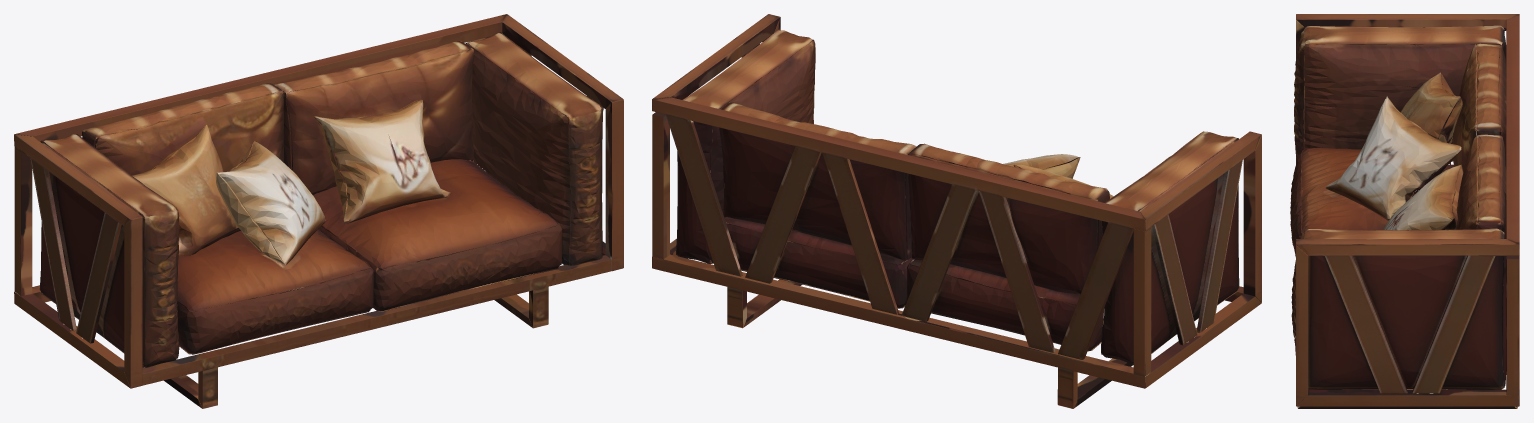
File: edited_mesh.glb
3 renders of one model, left to right at view 1: azimuth 30°, elevation 25°; view 2: azimuth 150°, elevation 25°; view 3: azimuth 270°, elevation 25°, orthographic. The views are drawn at different scales.
Parts seen in each view (by area): view 1: solid_001_wire; view 2: solid_001_wire; view 3: solid_001_wire.
Part boxes in pixels (box(x1,y1,x2,y2)): solid_001_wire: box(14, 14, 623, 408); solid_001_wire: box(652, 14, 1261, 408); solid_001_wire: box(1290, 14, 1519, 408).
Bounding box in the file's own units: 2 × 0.8164 × 0.8409.
Materials: 1 (1 with a texture image).
